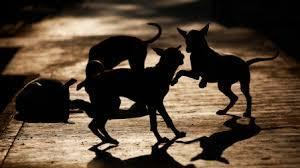dog_aggressive: (84, 44, 184, 148), (177, 24, 280, 124)
normal_dogs: (84, 20, 163, 72), (13, 72, 78, 124)
